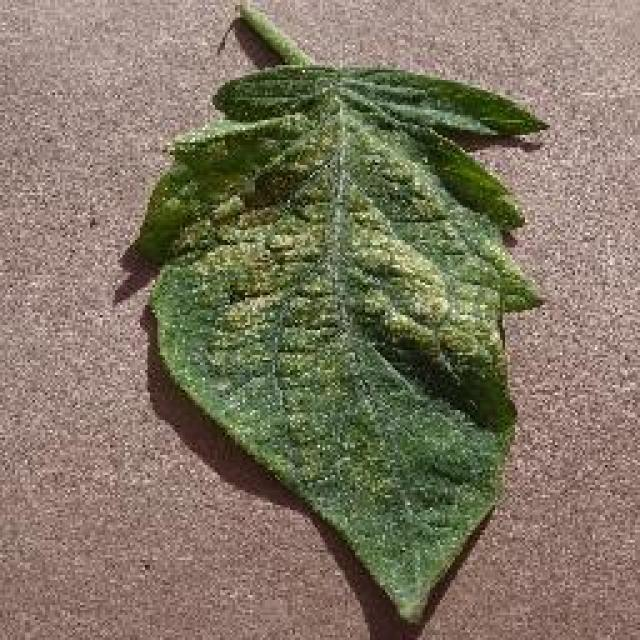Tomato___Spider_mites Two-spotted_spider_mite: (130, 8, 542, 622)
